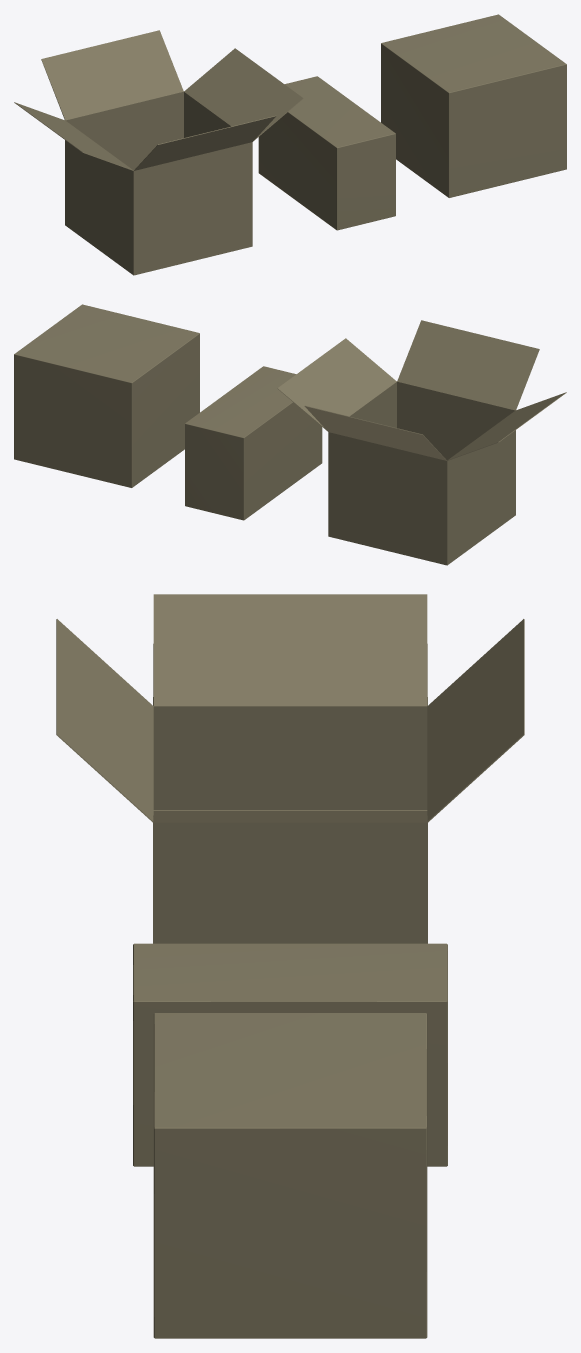
File: boxes.glb
3 views of the same model, one above another, from view 1: azimuth 30°, elevation 25°; view 2: azimuth 150°, elevation 25°; view 3: azimuth 270°, elevation 25° (orthographic). The views are drawn at different scales.
Visible parts, largest first — view 1: BoxOpen_, Box_big_, Box_medium_; view 2: BoxOpen_, Box_big_, Box_medium_; view 3: BoxOpen_, Box_big_, Box_medium_.
Boxes of the visible parts, bbox=[...] form: BoxOpen_: bbox=[14, 30, 303, 275]; Box_big_: bbox=[381, 14, 566, 197]; Box_medium_: bbox=[258, 76, 395, 230]; BoxOpen_: bbox=[277, 320, 566, 565]; Box_big_: bbox=[14, 304, 199, 487]; Box_medium_: bbox=[185, 366, 322, 520]; BoxOpen_: bbox=[56, 594, 524, 943]; Box_big_: bbox=[153, 1013, 427, 1338]; Box_medium_: bbox=[133, 943, 447, 1166].
Bounding box in the file's own units: 197 × 57.59 × 82.22.
